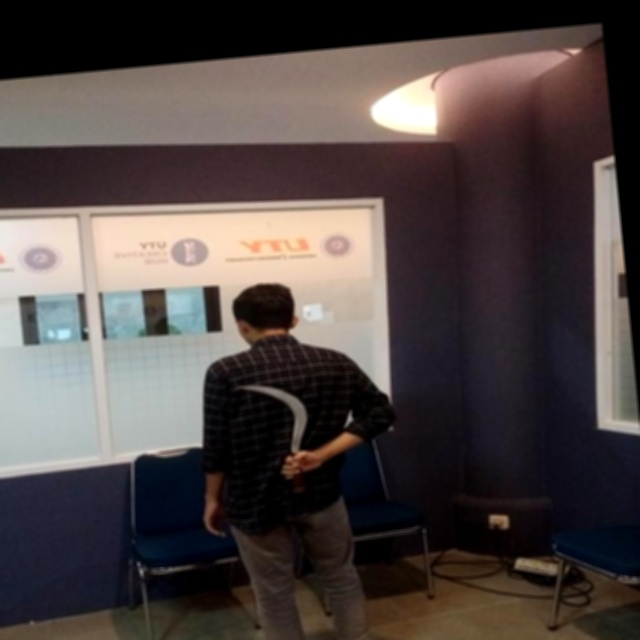Sharp-Object: (226, 369, 338, 490)
